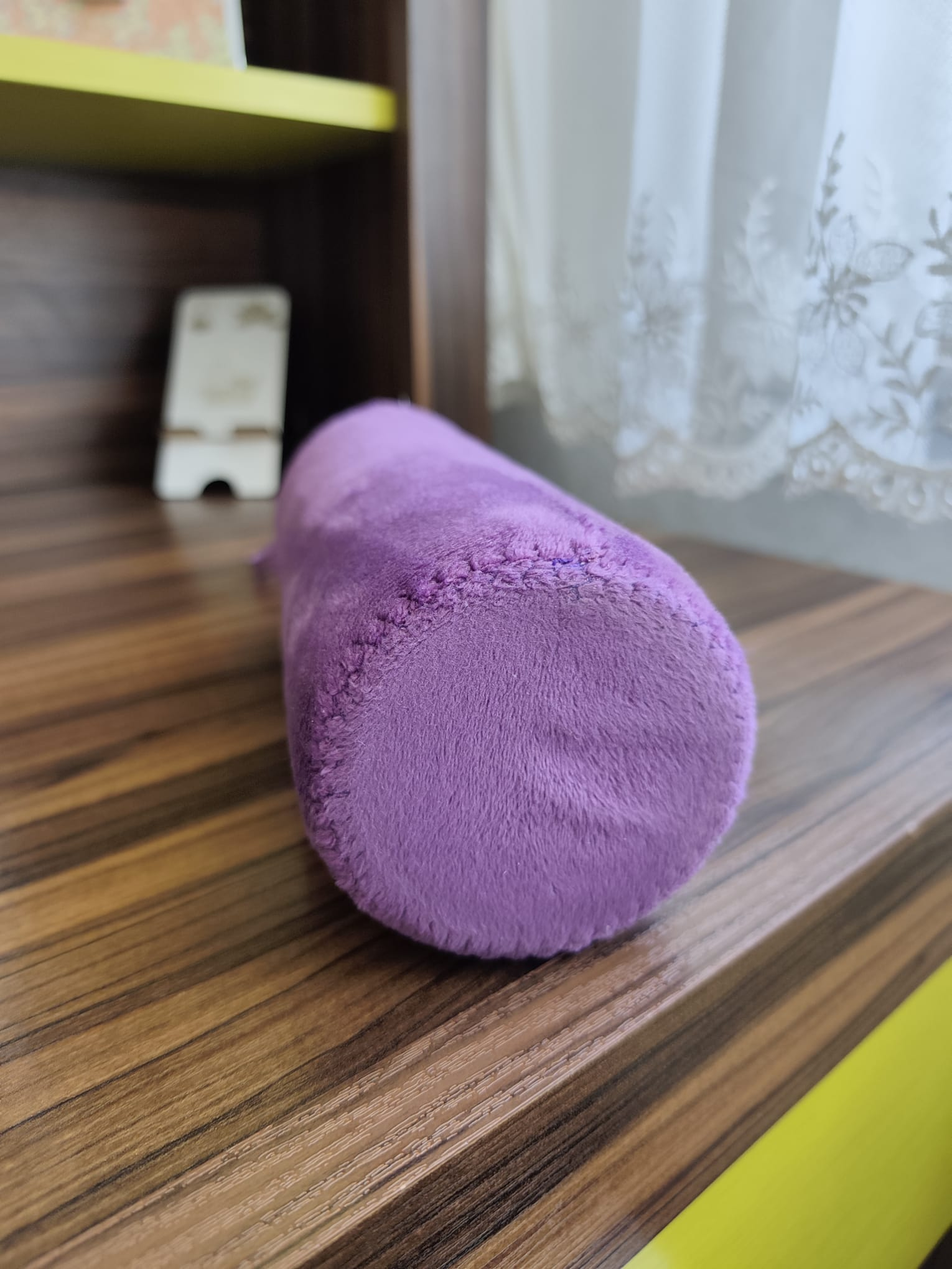su_sisesi: (274, 380, 772, 969)
